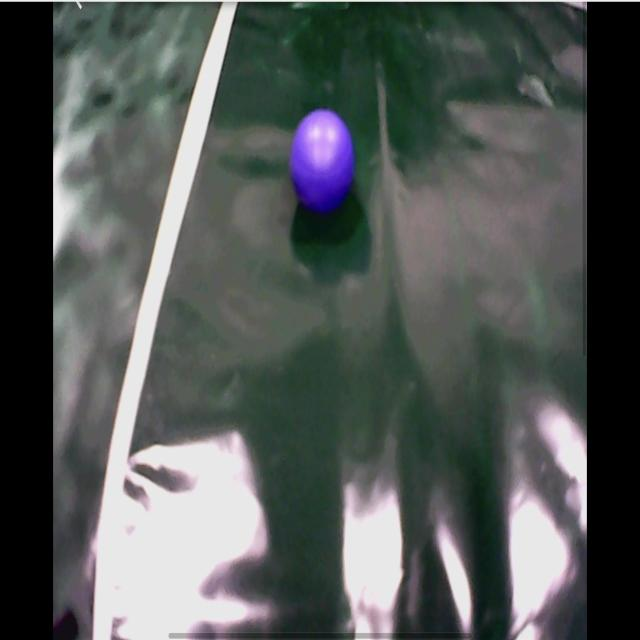ball: (291, 109, 355, 210)
